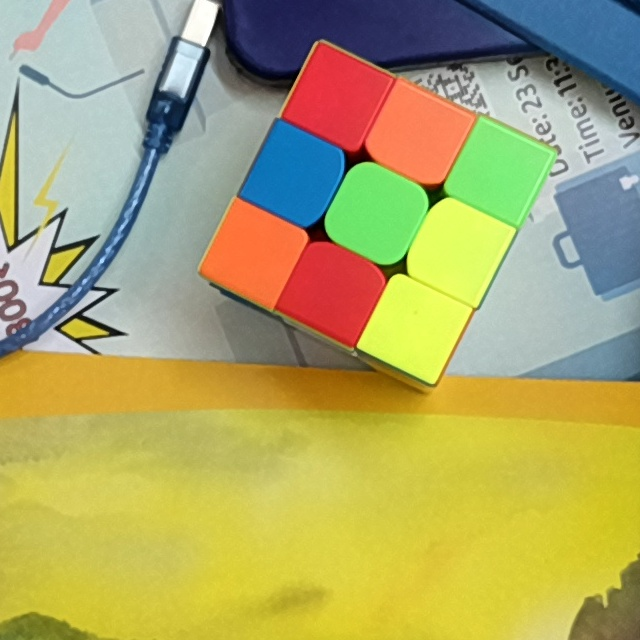tile: (346, 181, 408, 245), (267, 143, 328, 207), (221, 223, 284, 284), (301, 263, 366, 322), (387, 107, 449, 168), (428, 220, 488, 280), (470, 140, 529, 201), (385, 297, 446, 356), (308, 70, 366, 128)
